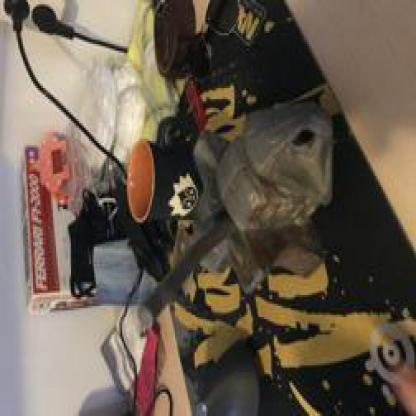Twistlock: (130, 93, 348, 346)
